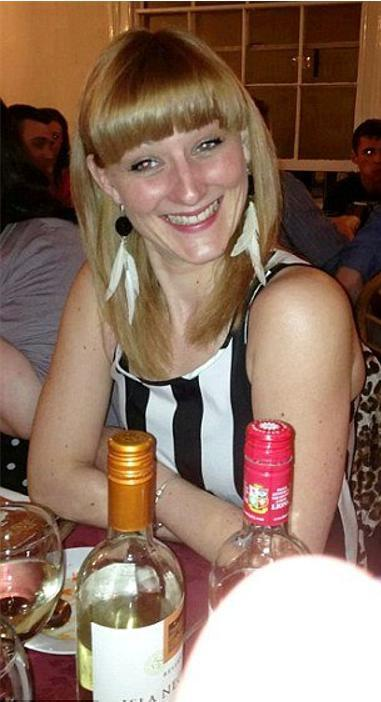Drunk: (121, 130, 242, 254)
